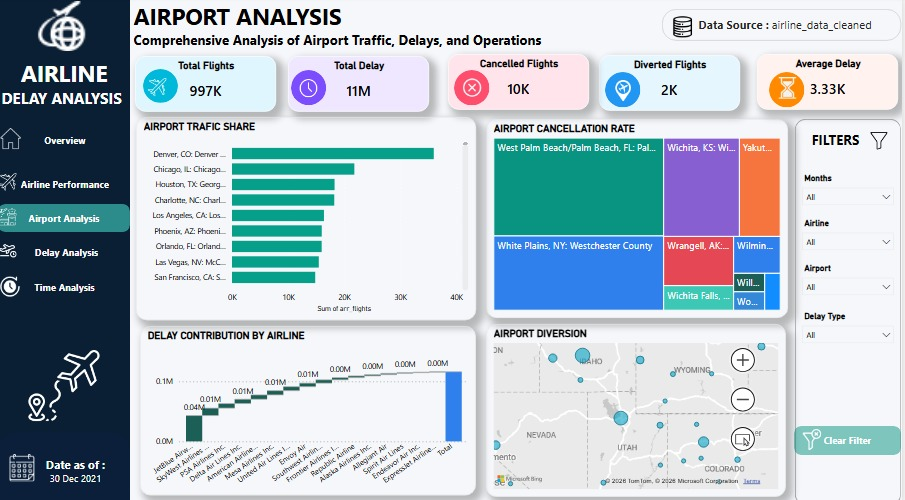

What the dashboard file says about the page in this screenshot:
{"tool":"powerbi","page":{"name":"Airport  Analysis","canvas":[1280,720],"ordinal":2},"visuals":[{"type":"shape","box":[0,0,187.2,720],"z":0},{"type":"actionButton","box":[1.4,182.8,187.1,41.1],"z":1000},{"type":"textbox","box":[187.1,0,606.6,83.6],"z":2000},{"type":"cardVisual","title":"Total Flights","fields":{"Data":["airline_data_cleaned.Total Flights"]},"box":[194,83.6,200,79.4],"z":3000},{"type":"actionButton","box":[1.4,245.2,187.1,39.7],"z":4000},{"type":"actionButton","box":[0,293.4,187.1,39.7],"z":5000},{"type":"actionButton","box":[2.8,341.6,188.5,39.7],"z":6000},{"type":"actionButton","box":[1.4,391.2,185.7,39.7],"z":7000},{"type":"cardVisual","title":"Diverted Flights","fields":{"Data":["airline_data_cleaned.Diverted Flights"]},"box":[851.8,82.2,199.8,79.4],"z":8000},{"type":"cardVisual","title":"Cancelled Flights","fields":{"Data":["airline_data_cleaned.Cancelled Flights"]},"box":[637.8,80.8,199.8,79.4],"z":9000},{"type":"cardVisual","title":"Total  Delay","fields":{"Data":["airline_data_cleaned.Total Delay"]},"box":[411.5,83.9,200.2,79.2],"z":10000},{"type":"slicer","fields":{"Values":["airline_data_cleaned.airport"]},"box":[1129.8,372.8,150.2,49.6],"z":11000},{"type":"treemap","title":"AIRPORT CANCELLATION RATE","fields":{"Values":["Sum(airline_data_cleaned.arr_cancelled)"],"Group":["airline_data_cleaned.airport_name"]},"box":[691.7,172.9,428,282],"z":12000},{"type":"barChart","title":"AIRPORT TRAFIC SHARE","fields":{"Category":["airline_data_cleaned.airport_name"],"Y":["Sum(airline_data_cleaned.arr_flights)"]},"box":[195.6,170.1,481.9,287.7],"z":13000},{"type":"waterfallChart","title":"DELAY CONTRIBUTION BY AIRLINE","fields":{"Category":["airline_data_cleaned.carrier_name"],"Y":["Sum(airline_data_cleaned.arr_delay)"]},"box":[201.3,466.3,476.2,239.5],"z":14000},{"type":"shape","box":[205.5,102,49.6,48.2],"z":15000},{"type":"cardVisual","title":"Average Delay","fields":{"Data":["airline_data_cleaned.Avg Delay"]},"box":[1076.4,81,200.2,79.2],"z":16000},{"type":"image","box":[1.4,249.4,25,25],"z":17000},{"type":"image","box":[2.8,185.7,30,30],"z":18000},{"type":"image","box":[1.4,298.7,25,25],"z":19000},{"type":"image","box":[1.4,347.4,25,25],"z":20000},{"type":"image","box":[1.4,395.4,31.2,29.8],"z":21000},{"type":"image","box":[205.5,114.8,39.7,25.5],"z":22000},{"type":"shape","box":[415.8,103.8,50,50],"z":23000},{"type":"image","box":[419.5,116.2,41.1,25.5],"z":24000},{"type":"shape","box":[646,104,50.4,50.4],"z":25000},{"type":"image","box":[652,113.4,39.7,29.8],"z":26000},{"type":"shape","box":[860.6,106.8,50.4,50.4],"z":27000},{"type":"image","box":[866,117.6,39.7,29.8],"z":28000},{"type":"shape","box":[1093.3,106.8,50.4,50.4],"z":29000},{"type":"image","box":[1098.4,113.4,41.1,31.2],"z":30000},{"type":"image","box":[0,500.3,187.1,100.6],"z":31000},{"type":"shape","box":[0,616.3,187.2,103.7],"z":32000},{"type":"image","box":[11.5,648,44.6,38.9],"z":33000},{"type":"actionButton","box":[1133.9,185.7,106.3,28.3],"z":34000},{"type":"image","box":[1233.1,191.3,30,25],"z":35000},{"type":"shape","box":[1129.6,172.9,150.2,547.1],"z":36000},{"type":"slicer","fields":{"Values":["airline_data_cleaned.month"]},"box":[1129.8,245.2,150.2,49.6],"z":37000},{"type":"slicer","fields":{"Values":["airline_data_cleaned.arr_delay"]},"box":[1129.8,440.8,150.2,49.6],"z":38000},{"type":"slicer","fields":{"Values":["airline_data_cleaned.arr_flights"]},"box":[1129.8,309,150.2,49.6],"z":39000},{"type":"image","box":[49.6,5.7,80.8,70.9],"z":40000},{"type":"textbox","box":[0,80.8,187.1,92.1],"z":41000},{"type":"actionButton","box":[56.7,647.7,106.3,28.3],"z":42000},{"type":"actionButton","box":[56.7,667.6,106.3,28.3],"z":43000},{"type":"textbox","box":[941.1,17,338.7,45],"z":44000},{"type":"image","box":[955.3,21.3,30,41.1],"z":45000},{"type":"actionButton","box":[1128.2,608,151.7,41.1],"z":46000},{"type":"image","box":[1129.6,612.3,48.2,29.8],"z":47000},{"type":"map","title":"AIRPORT DIVERSION","fields":{"Category":["airline_data_cleaned.airport_name"],"Size":["Sum(airline_data_cleaned.arr_diverted)"]},"box":[691.7,463.5,425.2,245.2],"z":48000}]}

Visuals, with their boxes on the page's 1280x720 design canvas (x1, y1, x2, y2). These are canvas units, not pixel positions in the 905x500 screenshot, which may show the page scaled, cropped or inside an application window:
shape: detection(0, 0, 187, 720)
actionButton: detection(1, 183, 188, 224)
textbox: detection(187, 0, 794, 84)
"Total Flights" cardVisual: detection(194, 84, 394, 163)
actionButton: detection(1, 245, 188, 285)
actionButton: detection(0, 293, 187, 333)
actionButton: detection(3, 342, 191, 381)
actionButton: detection(1, 391, 187, 431)
"Diverted Flights" cardVisual: detection(852, 82, 1052, 162)
"Cancelled Flights" cardVisual: detection(638, 81, 838, 160)
"Total  Delay" cardVisual: detection(412, 84, 612, 163)
slicer - airline_data_cleaned.airport: detection(1130, 373, 1280, 422)
"AIRPORT CANCELLATION RATE" treemap: detection(692, 173, 1120, 455)
"AIRPORT TRAFIC SHARE" barChart: detection(196, 170, 678, 458)
"DELAY CONTRIBUTION BY AIRLINE" waterfallChart: detection(201, 466, 678, 706)
shape: detection(206, 102, 255, 150)
"Average Delay" cardVisual: detection(1076, 81, 1277, 160)
image: detection(1, 249, 26, 274)
image: detection(3, 186, 33, 216)
image: detection(1, 299, 26, 324)
image: detection(1, 347, 26, 372)
image: detection(1, 395, 33, 425)
image: detection(206, 115, 245, 140)
shape: detection(416, 104, 466, 154)
image: detection(420, 116, 461, 142)
shape: detection(646, 104, 696, 154)
image: detection(652, 113, 692, 143)
shape: detection(861, 107, 911, 157)
image: detection(866, 118, 906, 147)
shape: detection(1093, 107, 1144, 157)
image: detection(1098, 113, 1140, 145)
image: detection(0, 500, 187, 601)
shape: detection(0, 616, 187, 720)
image: detection(12, 648, 56, 687)
actionButton: detection(1134, 186, 1240, 214)
image: detection(1233, 191, 1263, 216)
shape: detection(1130, 173, 1280, 720)
slicer - airline_data_cleaned.month: detection(1130, 245, 1280, 295)
slicer - airline_data_cleaned.arr_delay: detection(1130, 441, 1280, 490)
slicer - airline_data_cleaned.arr_flights: detection(1130, 309, 1280, 359)
image: detection(50, 6, 130, 77)
textbox: detection(0, 81, 187, 173)
actionButton: detection(57, 648, 163, 676)
actionButton: detection(57, 668, 163, 696)
textbox: detection(941, 17, 1280, 62)
image: detection(955, 21, 985, 62)
actionButton: detection(1128, 608, 1280, 649)
image: detection(1130, 612, 1178, 642)
"AIRPORT DIVERSION" map: detection(692, 464, 1117, 709)
